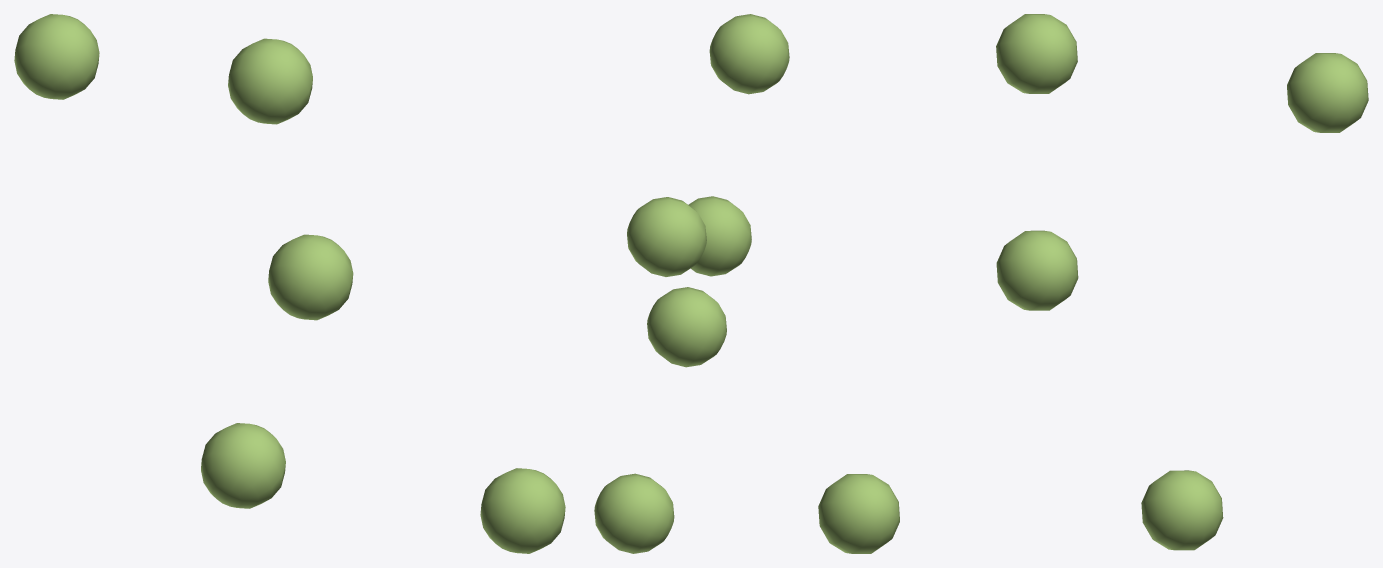
The model's file is mastoid-nodes-r.glb.
3 views of the same model, side by side, from view 1: azimuth 30°, elevation 25°; view 2: azimuth 150°, elevation 25°; view 3: azimuth 270°, elevation 25° (orthographic). The views are drawn at different scales.
Parts seen in each view (by area): view 1: Mastoid nodes.r; view 2: Mastoid nodes.r; view 3: Mastoid nodes.r.
Part boxes in pixels (left/top/right/bottom): Mastoid nodes.r: left=14, top=14, right=565, bottom=553; Mastoid nodes.r: left=594, top=14, right=789, bottom=553; Mastoid nodes.r: left=818, top=14, right=1368, bottom=553.
Bounding box in the file's own units: 0.0103 × 0.0175 × 0.0172.
